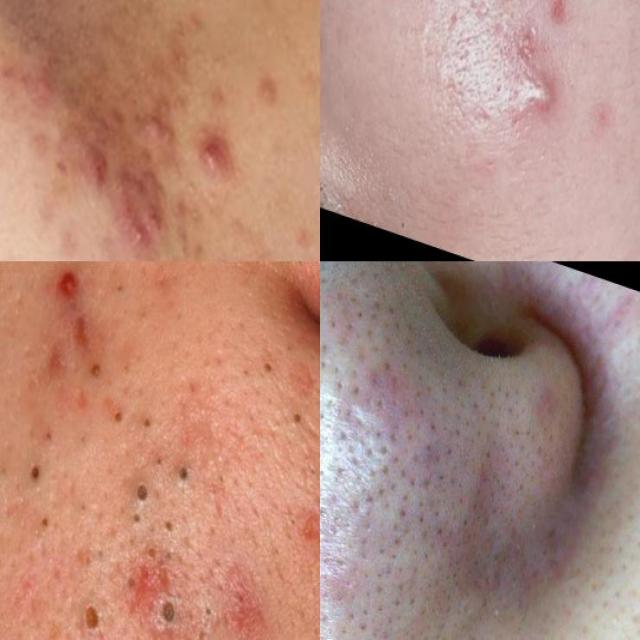7: (508, 502, 543, 568), (474, 590, 517, 632)
8: (177, 102, 252, 189), (496, 47, 569, 128), (39, 261, 92, 320), (128, 82, 170, 140)
blackheads: (92, 138, 170, 249), (542, 0, 580, 36), (484, 0, 519, 13)
dark spot: (343, 359, 429, 461), (320, 265, 405, 368), (122, 427, 200, 531), (474, 404, 547, 501), (328, 524, 391, 634), (383, 567, 470, 640), (384, 478, 451, 571), (343, 444, 402, 530), (447, 500, 506, 584), (418, 400, 477, 482), (83, 385, 162, 443), (320, 341, 353, 440), (320, 427, 353, 525), (148, 579, 200, 637), (18, 440, 52, 504), (75, 581, 109, 632), (320, 510, 337, 612), (298, 489, 320, 548), (251, 341, 278, 386), (276, 391, 302, 436)
